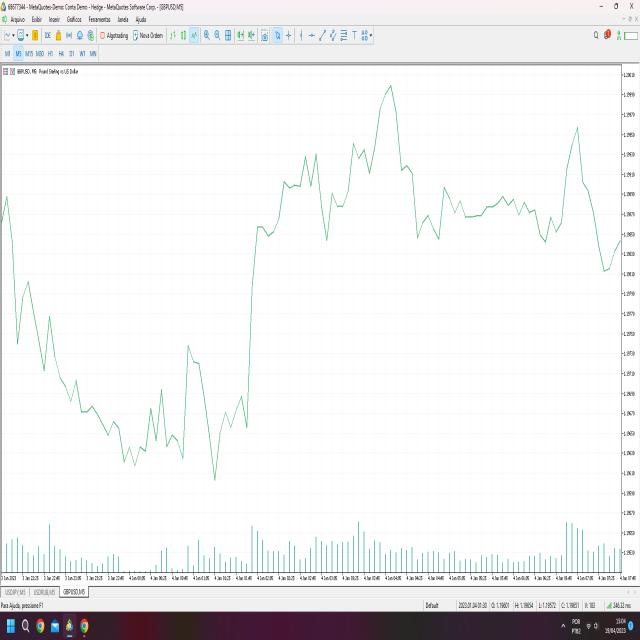oco: (338, 79, 426, 230)
